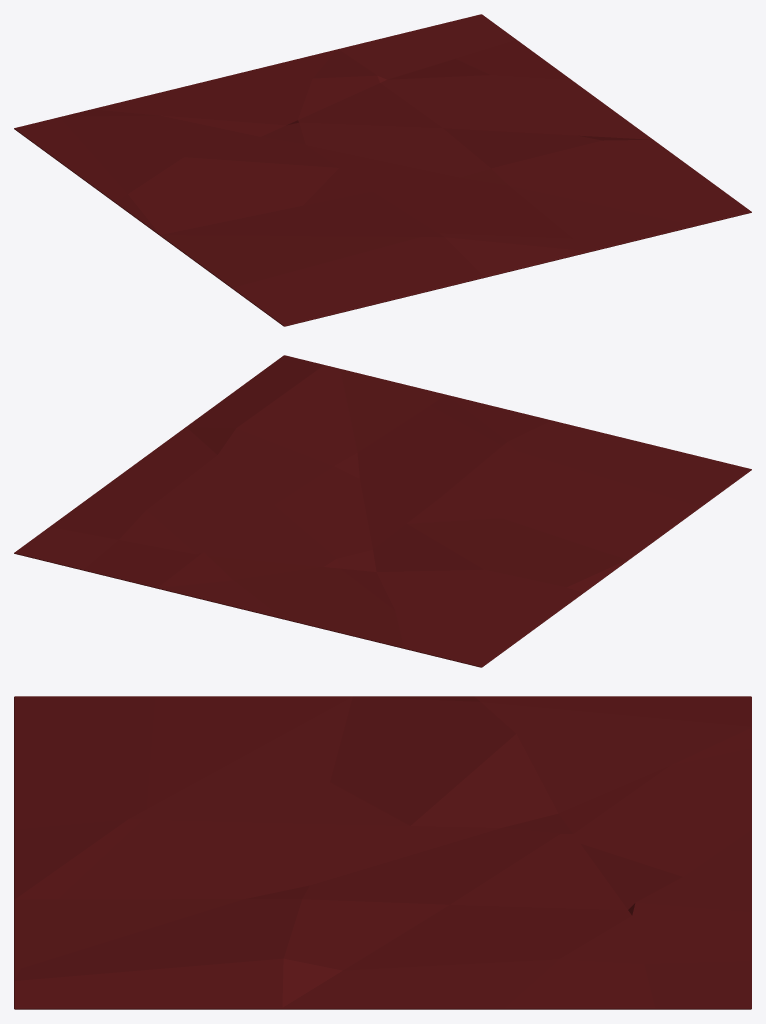
File: CARPET.fbx
3 renders of one model, top to bottom at view 1: azimuth 30°, elevation 25°; view 2: azimuth 150°, elevation 25°; view 3: azimuth 270°, elevation 25°, orthographic. The views are drawn at different scales.
Parts seen in each view (by area): view 1: Plane; view 2: Plane; view 3: Plane.
Boxes of the visible parts, x1=… form: Plane: x1=14, y1=14, x2=751, y2=326; Plane: x1=14, y1=355, x2=751, y2=667; Plane: x1=14, y1=696, x2=751, y2=1009.
Bounding box in the file's own units: 200 × 6.01 × 200.
